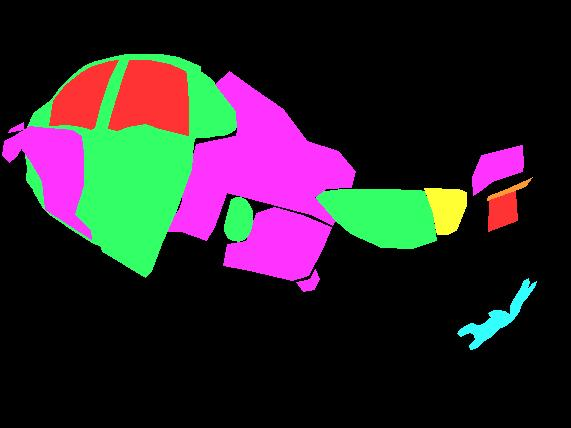Broken part: (85, 54, 200, 277), (25, 54, 127, 246), (316, 189, 436, 248), (194, 68, 237, 137), (224, 197, 252, 241), (27, 97, 54, 129)
Cracked: (424, 188, 466, 234)
Dent: (215, 71, 355, 225), (89, 136, 187, 269), (2, 126, 91, 239), (223, 207, 331, 280), (168, 135, 241, 240), (472, 145, 523, 195), (296, 269, 319, 291), (8, 122, 23, 132)
Flaking: (457, 278, 536, 349)
Missing part: (108, 60, 188, 135), (49, 60, 118, 129), (488, 191, 517, 231)
Paint chip: (487, 177, 532, 200), (487, 160, 491, 177)
